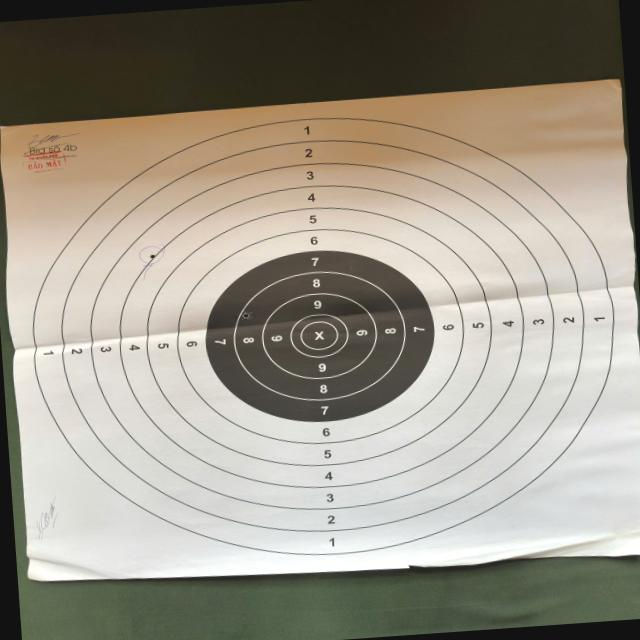bullet: (241, 311, 251, 318), (149, 254, 156, 260)
target: (1, 80, 640, 580)
